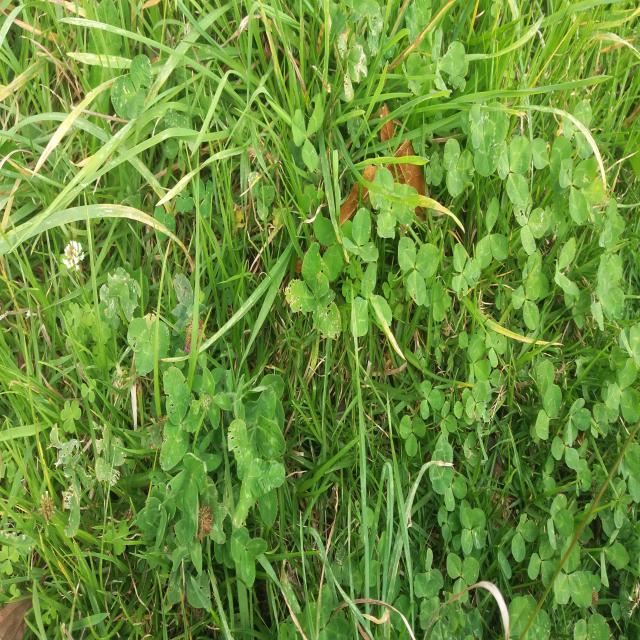Four Leaf Clover: (284, 242, 341, 339), (292, 143, 342, 213), (490, 357, 517, 402)
